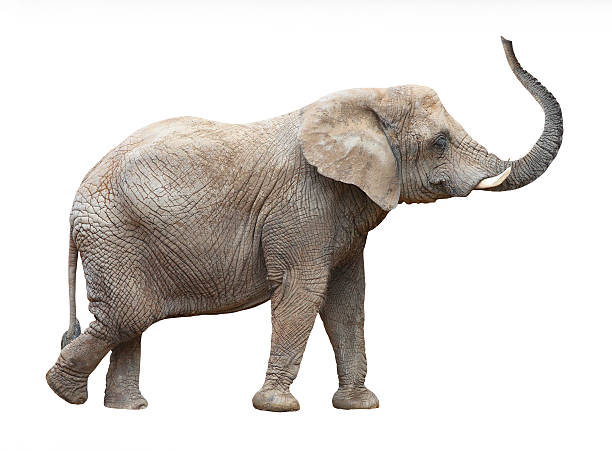africanelephant: (327, 90, 529, 230)
